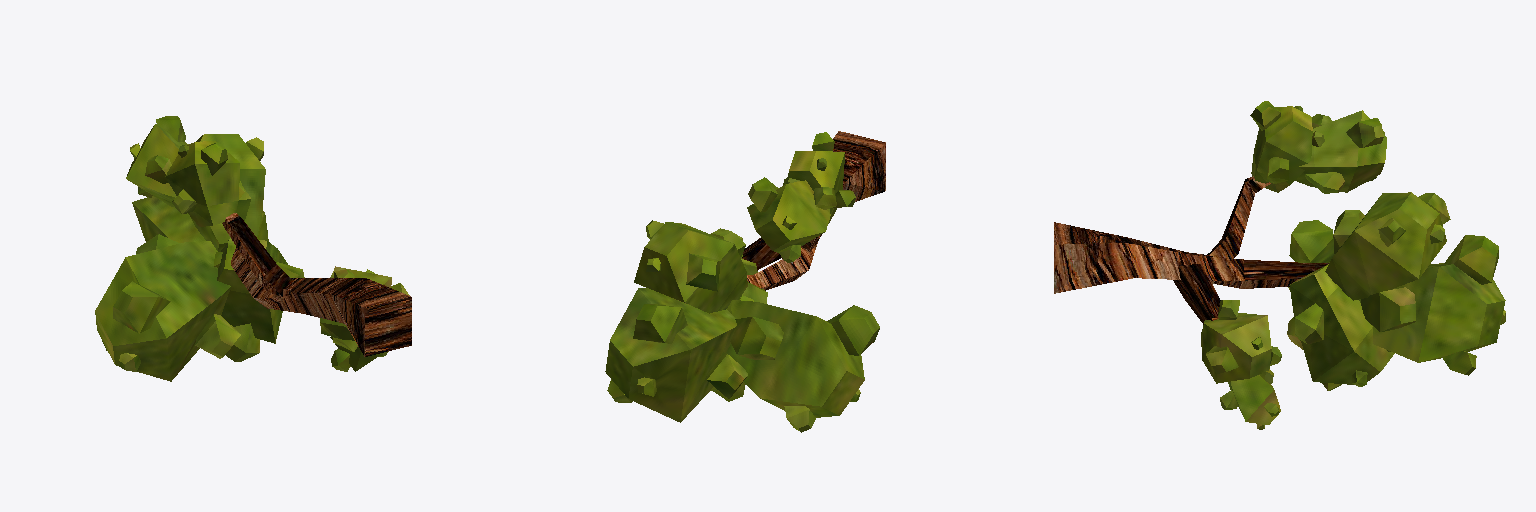
3 renders of one model, left to right at view 1: azimuth 30°, elevation 25°; view 2: azimuth 150°, elevation 25°; view 3: azimuth 270°, elevation 25°, orthographic.
Visible parts, largest first — view 1: Tree; view 2: Tree; view 3: Tree.
Part boxes in pixels (left/top/right/bottom): Tree: left=95, top=116, right=411, bottom=381; Tree: left=605, top=131, right=885, bottom=432; Tree: left=1054, top=101, right=1505, bottom=429.
Bounding box in the file's own units: 31.77 × 31.79 × 50.18.
Materials: 4 (2 with a texture image).